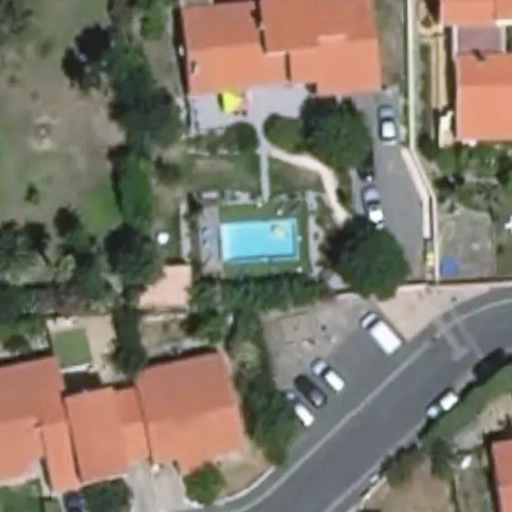pool: (203, 214, 308, 269)
